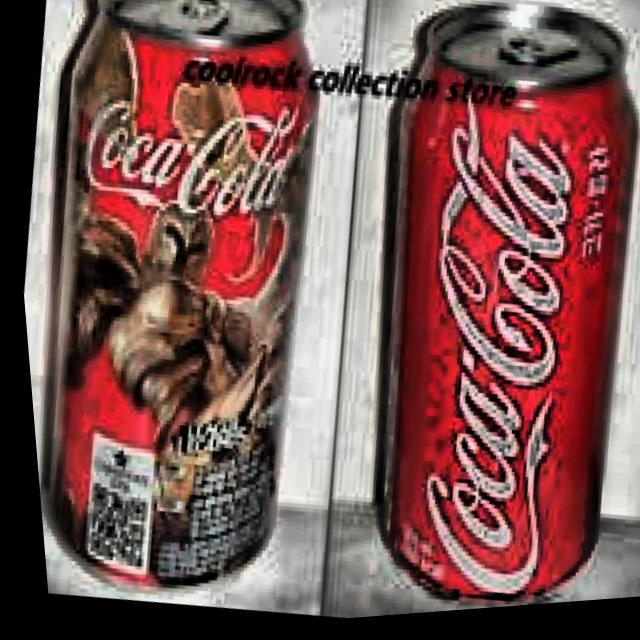Cans: (0, 0, 377, 623), (313, 5, 640, 622)
